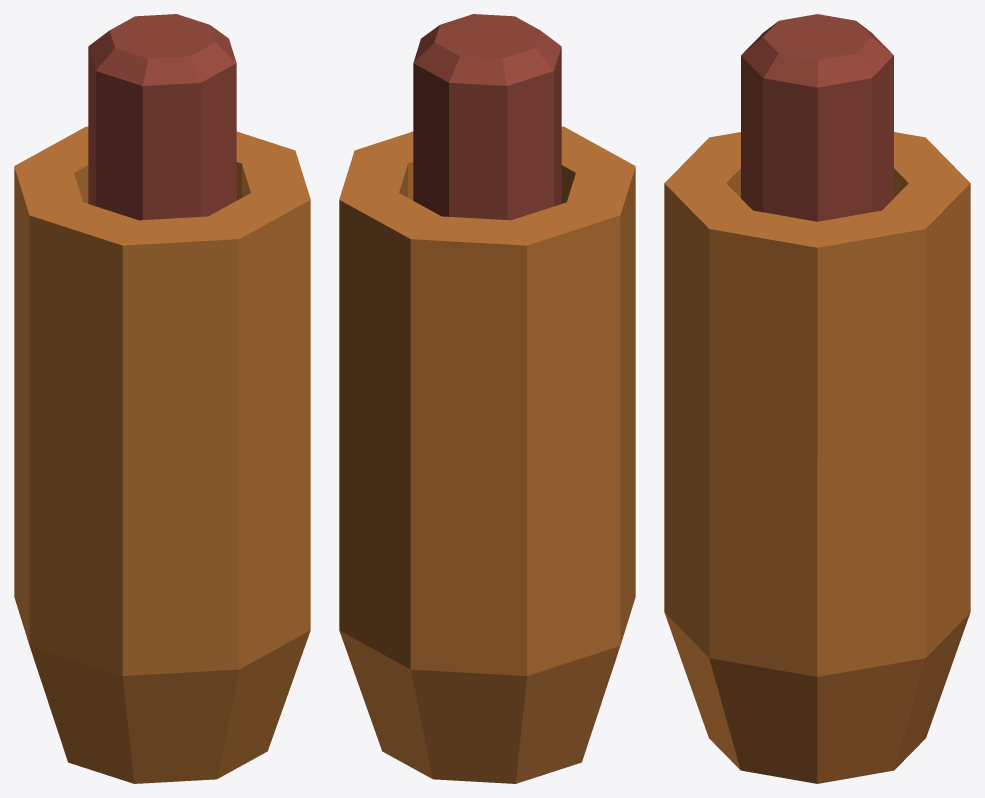
File: CplHotDog.fbx
The picture shows the model from 3 angles, left to right: view 1: azimuth 30°, elevation 25°; view 2: azimuth 150°, elevation 25°; view 3: azimuth 270°, elevation 25°; orthographic projection.
Parts seen in each view (by area): view 1: Bun, Hotdog; view 2: Bun, Hotdog; view 3: Bun, Hotdog.
Part boxes in pixels (<box>): Bun: <box>14,126,310,783</box>; Hotdog: <box>88,14,236,220</box>; Bun: <box>339,126,635,783</box>; Hotdog: <box>413,14,561,220</box>; Bun: <box>664,132,970,783</box>; Hotdog: <box>741,14,893,221</box>.
Size of the model in its own units: 0.2 by 0.5053 by 0.2.
